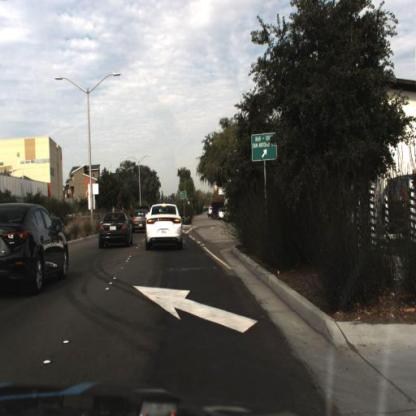car: (1, 204, 74, 293), (143, 203, 185, 250), (98, 209, 133, 253)
